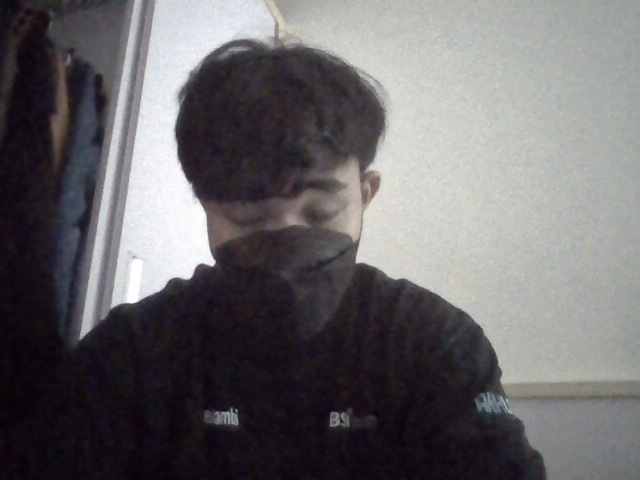Drowsy: (150, 22, 434, 380)
